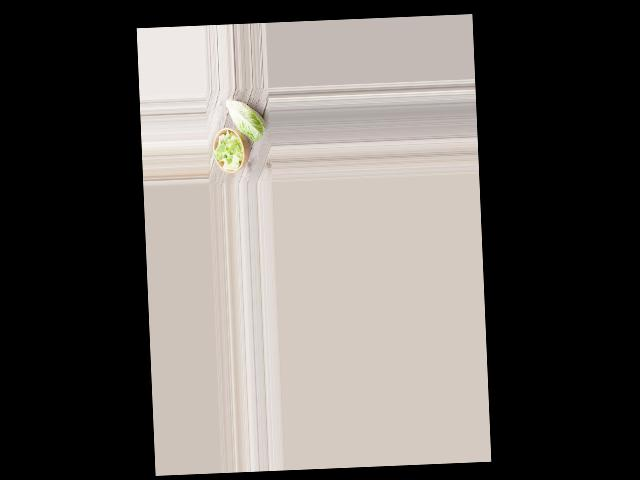lettuce: (225, 98, 266, 142)
